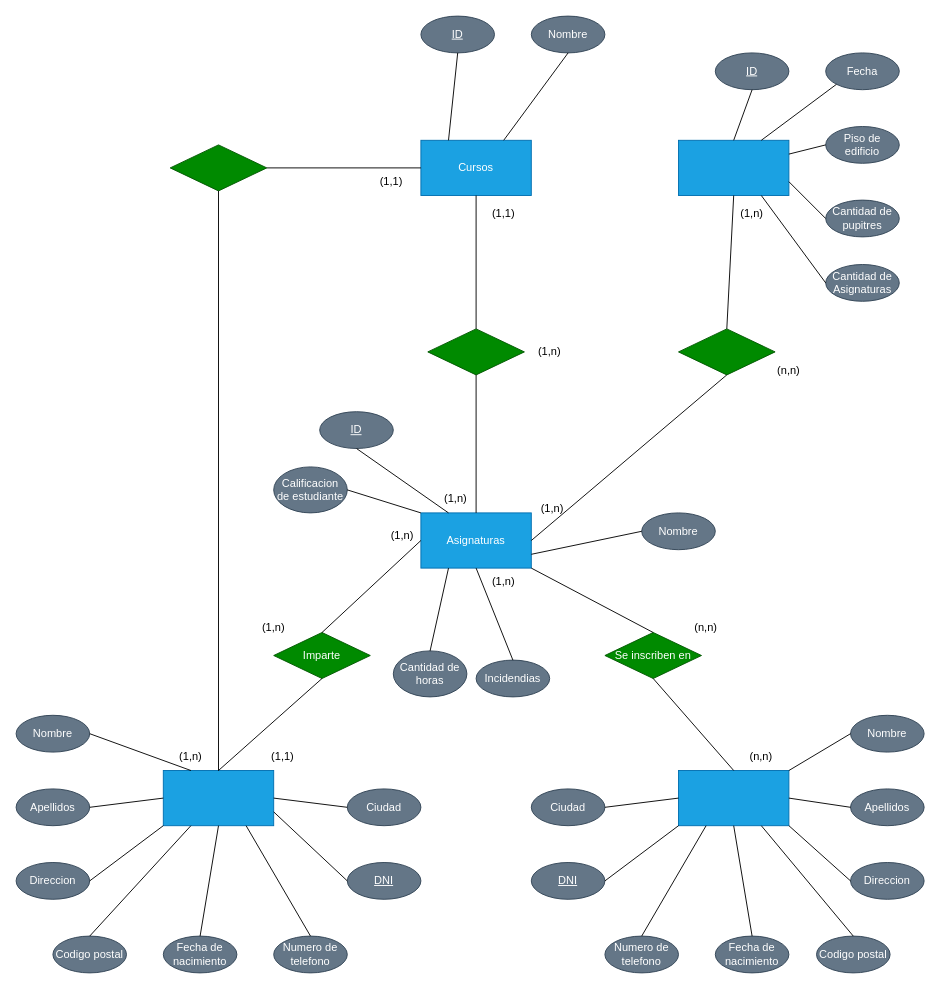
This 940x989 diagram has some shape labels left out. Each missing label, with the box of its shape:
Alumnos: (678, 770, 789, 826)
Aulas: (678, 139, 789, 196)
Forman parte de: (427, 328, 524, 375)
Profesore: (162, 770, 274, 826)
Se imparten en: (678, 328, 775, 375)
Tutor: (169, 144, 267, 191)
